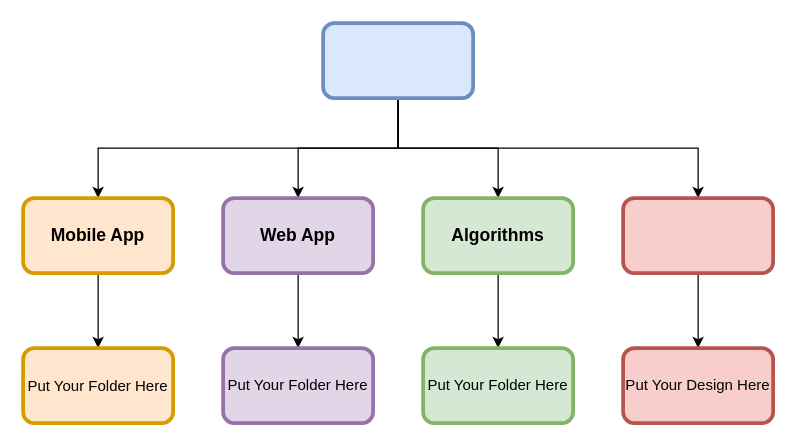
Image size: 796x446. Some labels were removed from this diagram. Here are the shapes that lost their labels. From the top down, the centre of each, then its label:
the point at 397,60: Hack - Fest
the point at 697,235: UI Design & Logo
